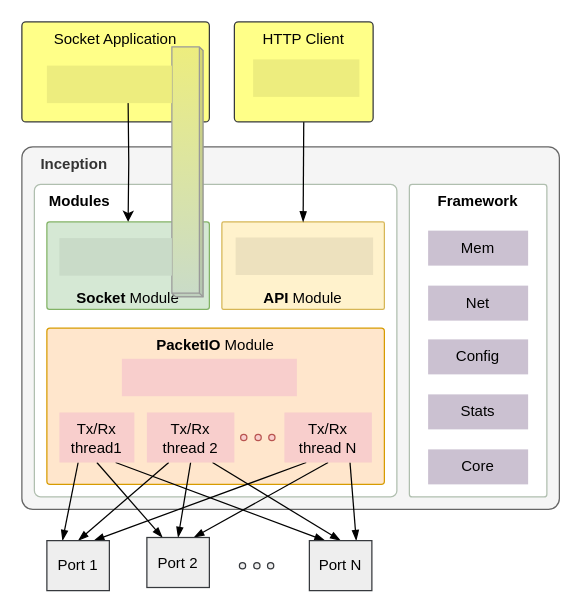
This 581x613 diagram has some shape labels left out. Each missing label, with the centre of its shape:
"libicp-shim.so" belongs at [108,83].
"RestAPI thread" belongs at [303,255].
"Shared Memory" belongs at [187,171].
"swagger client" belongs at [305,77].
"TCP/IP Thread" belongs at [208,377].
"Unix Socket" belongs at [115,256].
